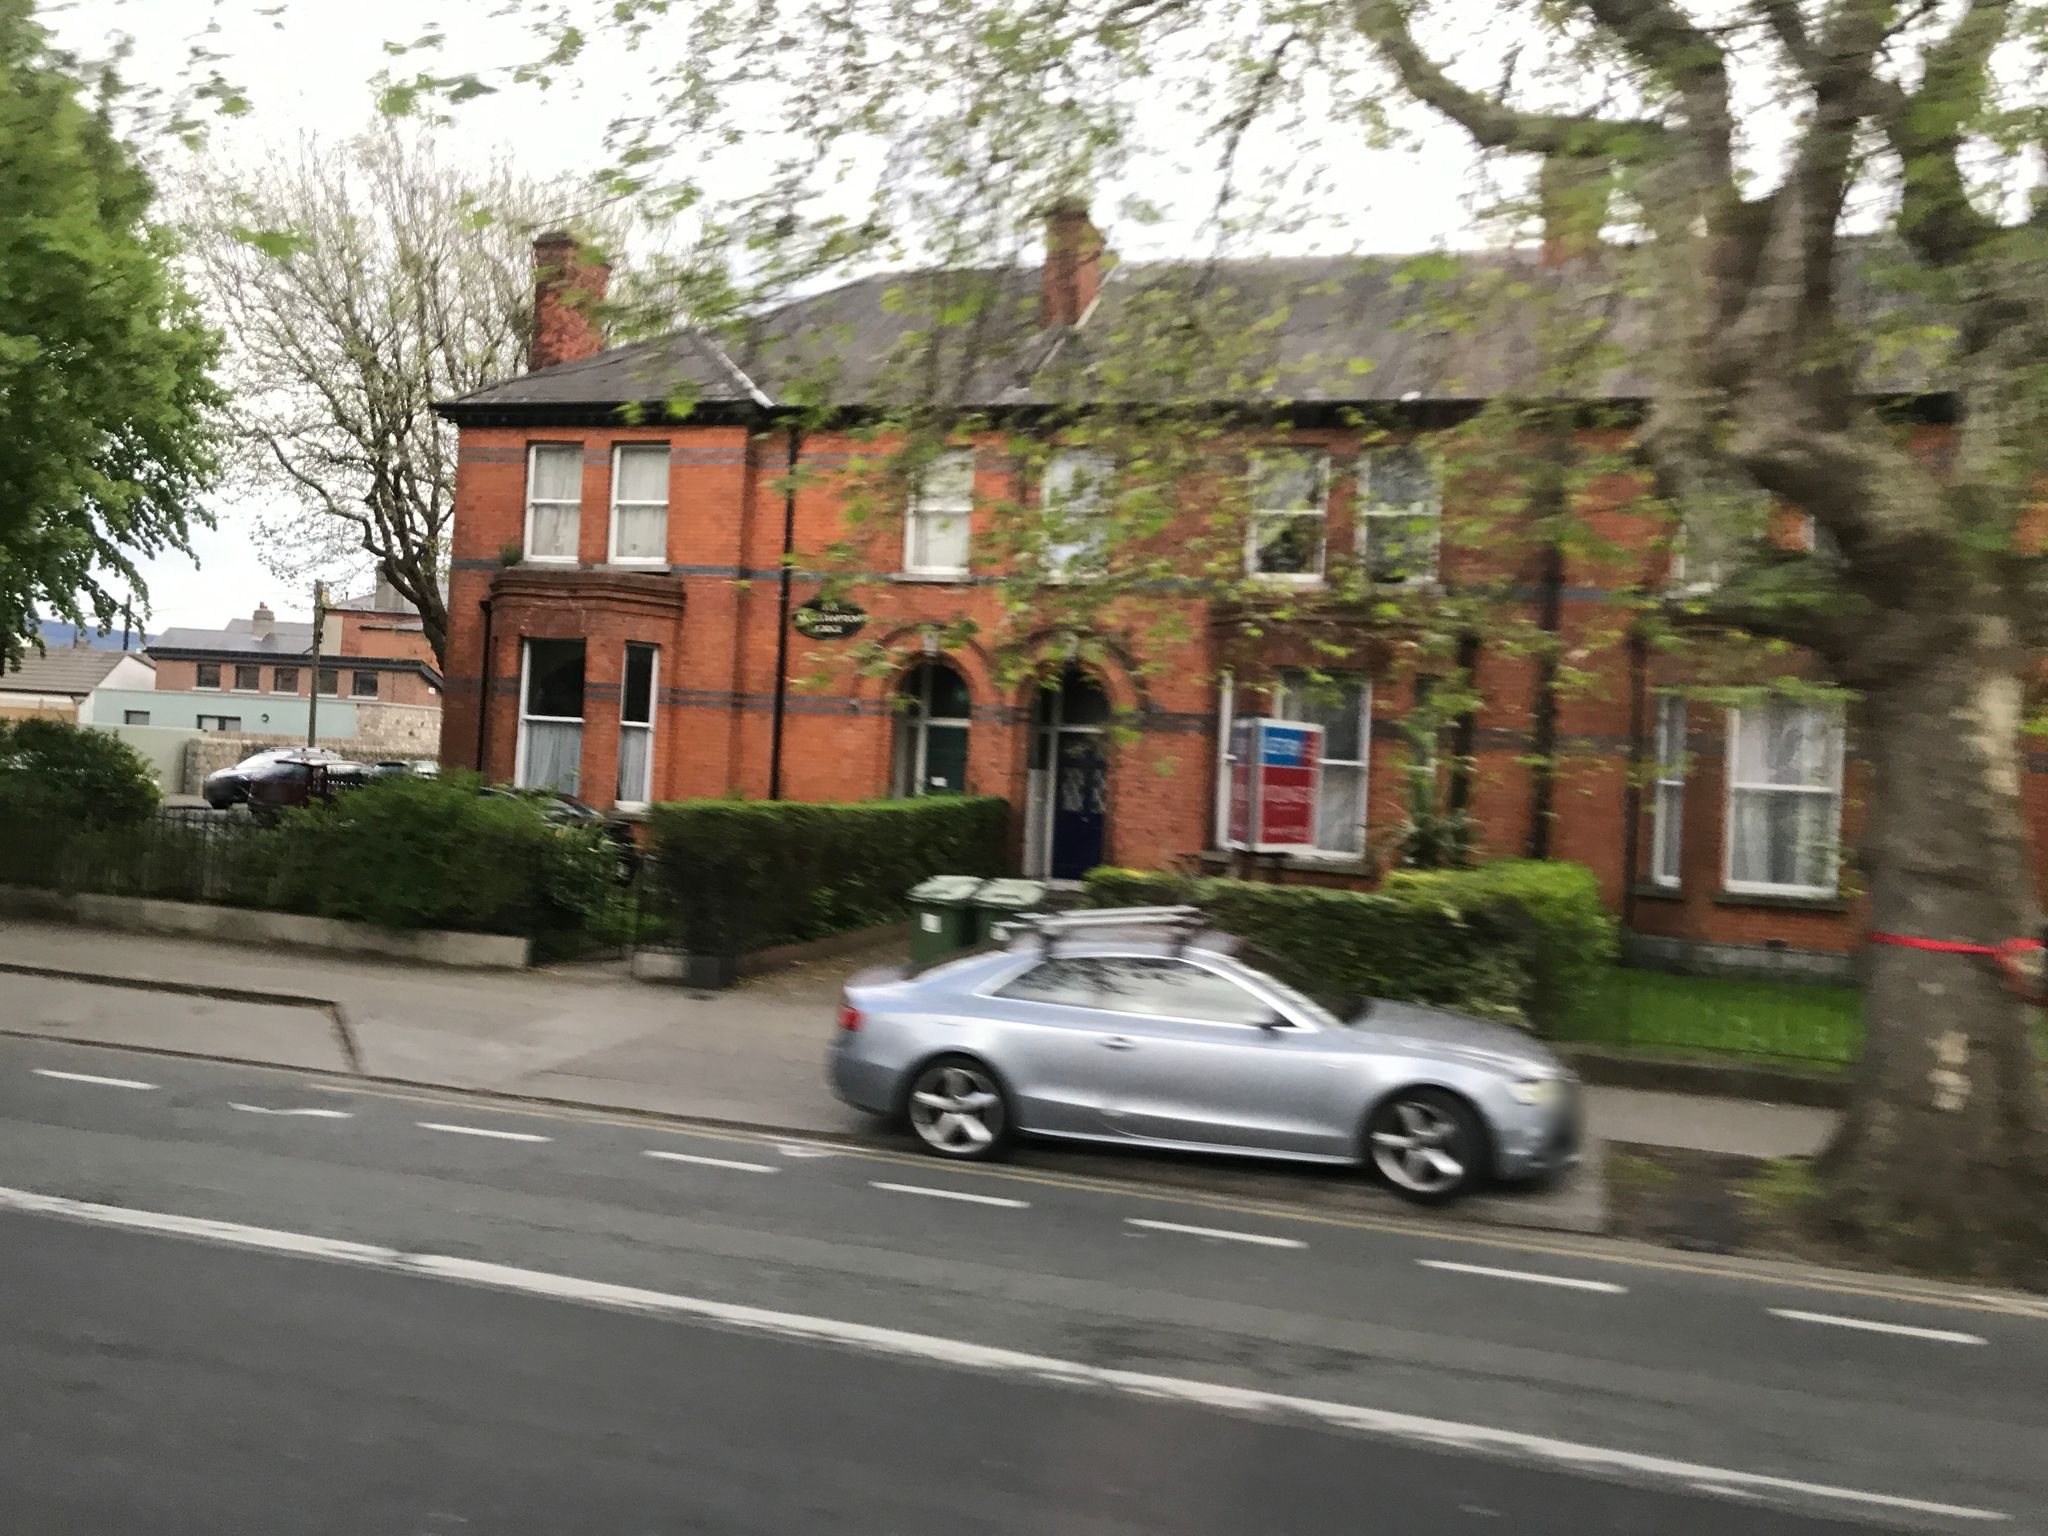property sign: (1203, 687, 1330, 862)
